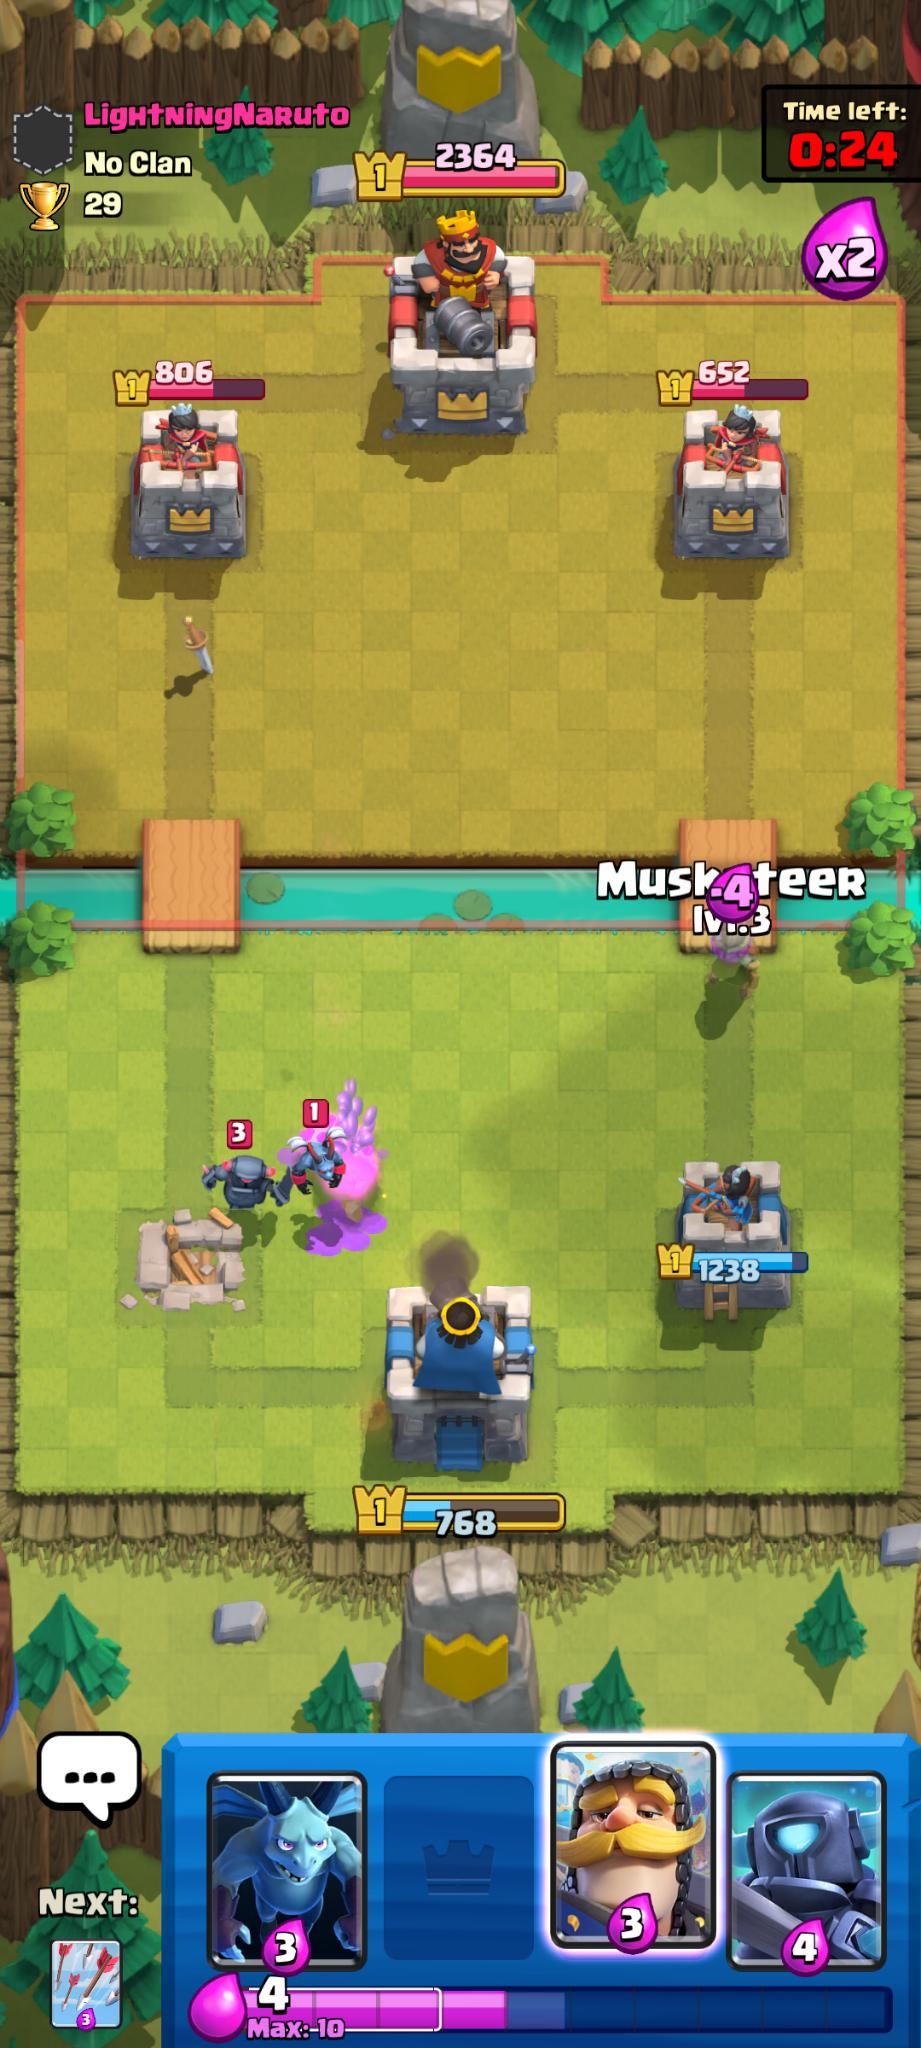gargouille: (300, 1126, 351, 1195)
mini_PEKKA: (205, 1136, 289, 1215)
